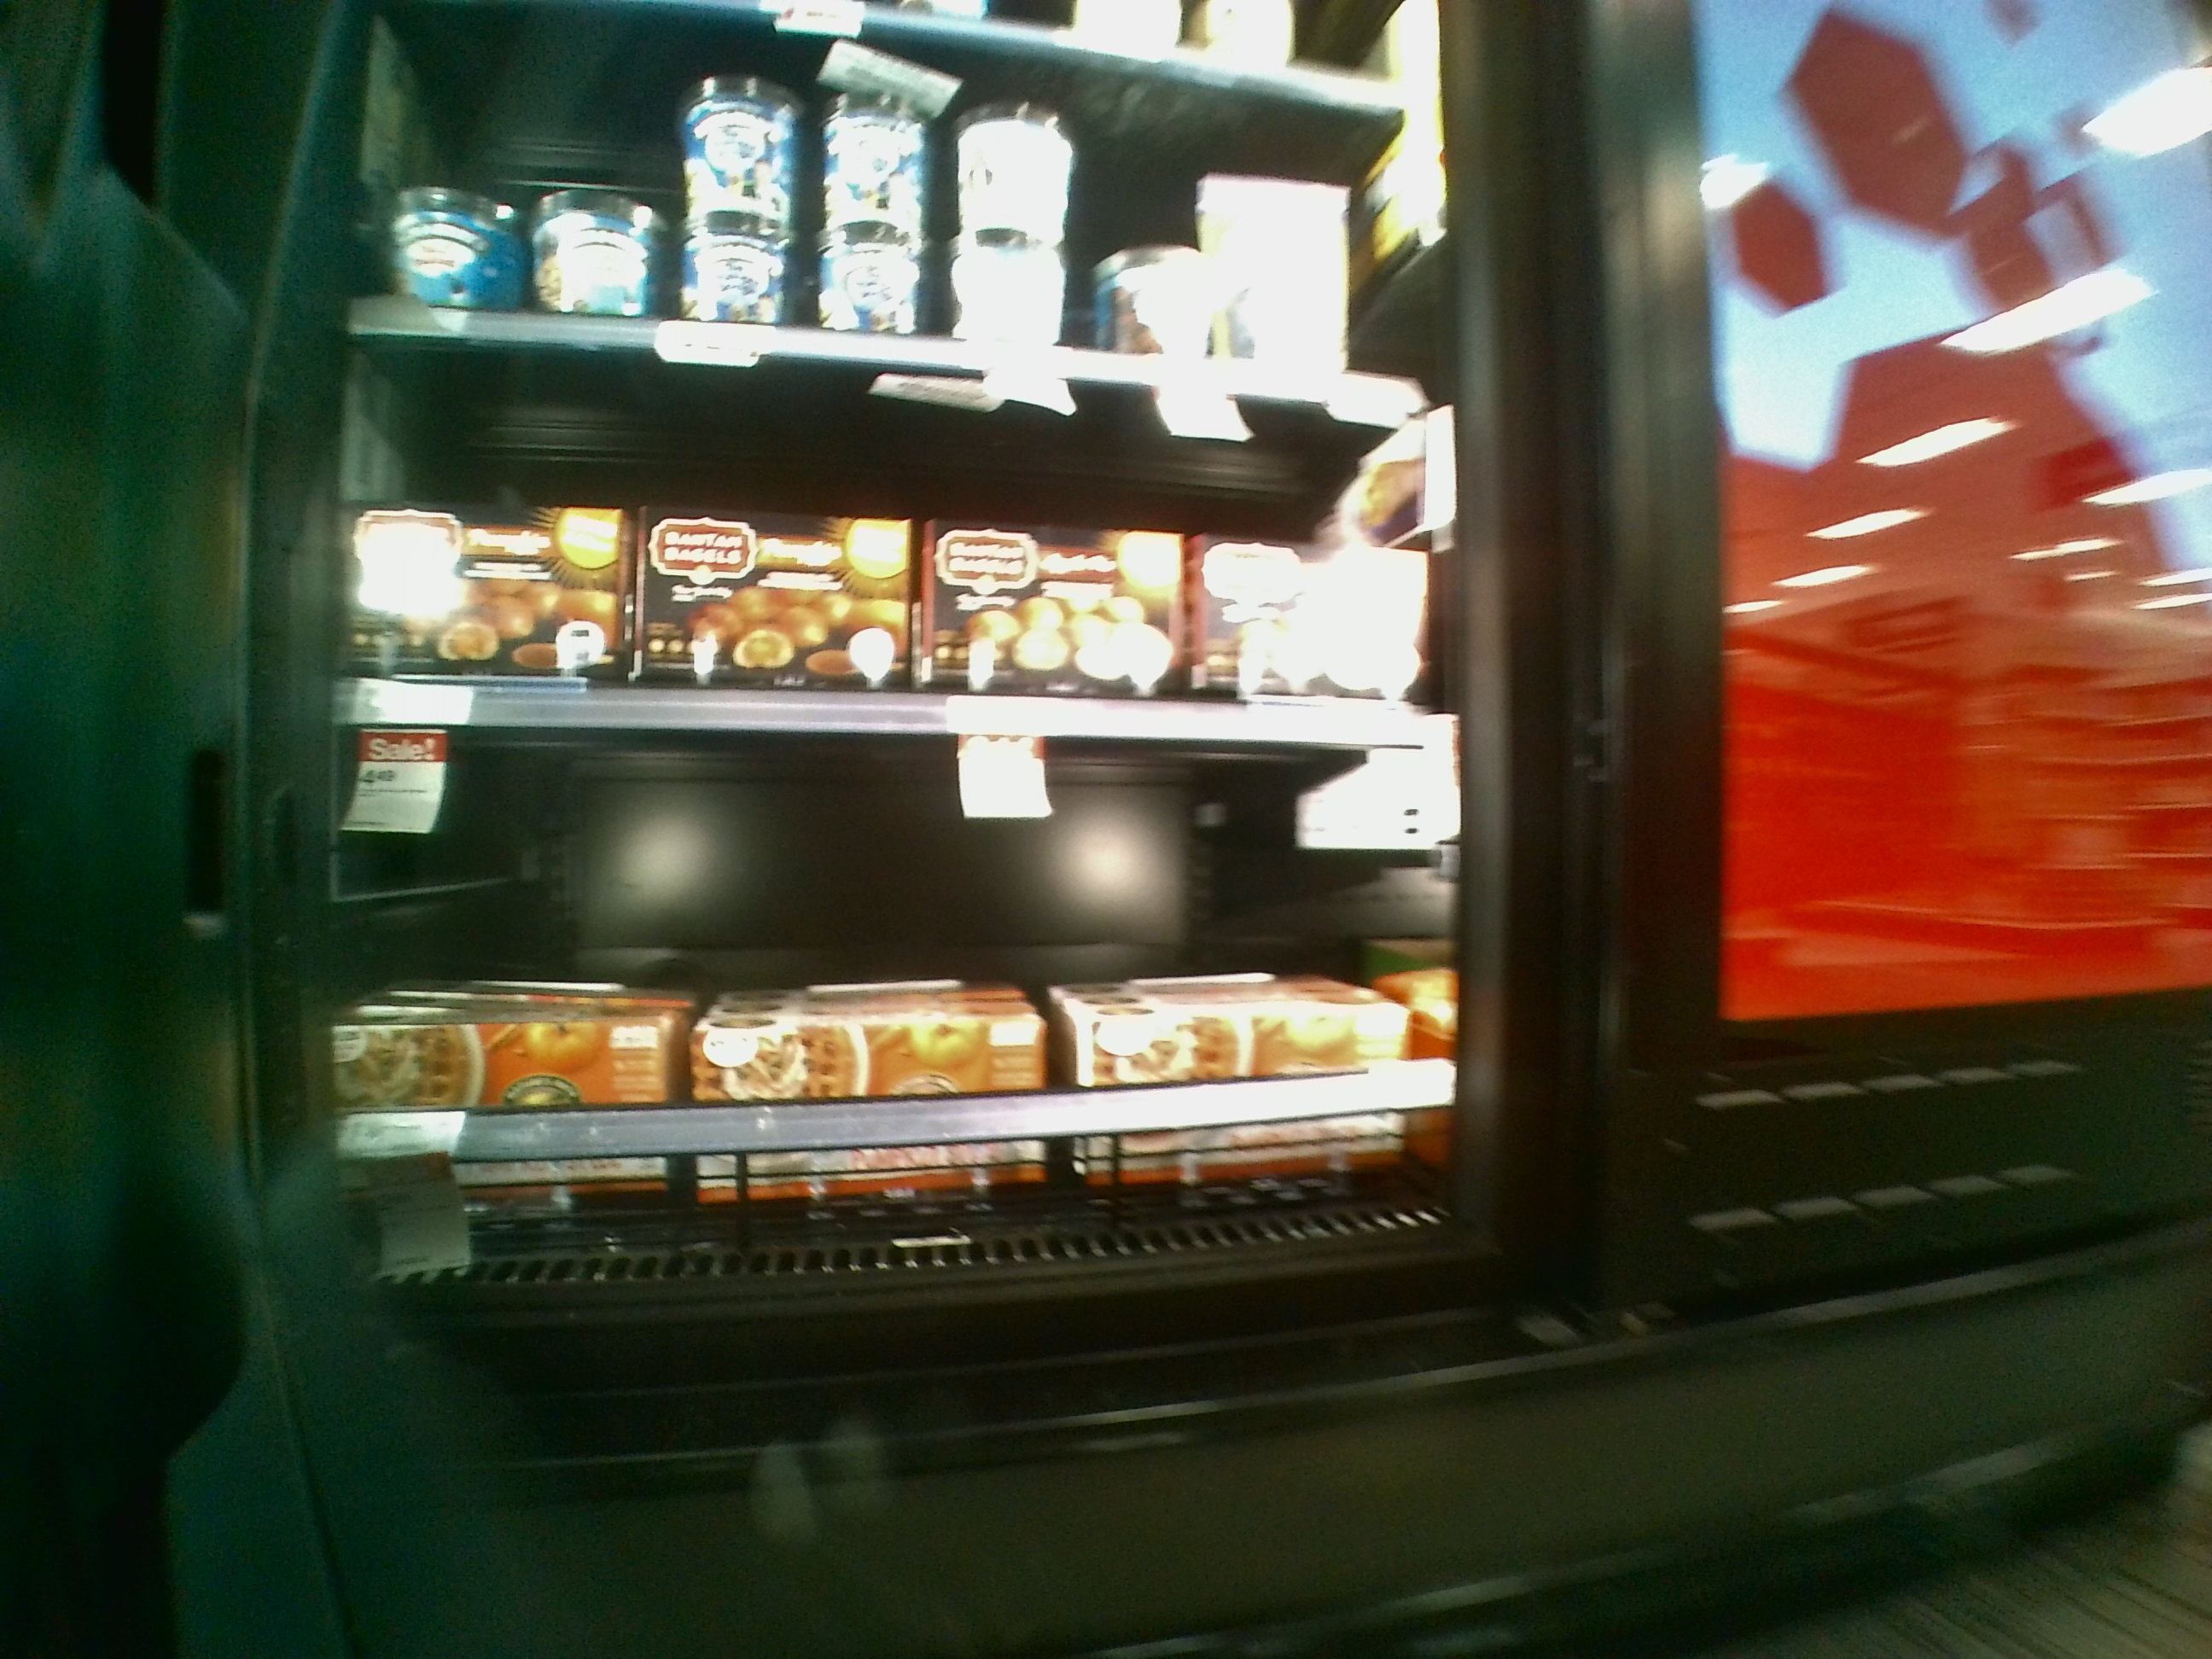shelf: (284, 727, 1463, 1246), (322, 331, 1475, 746)
